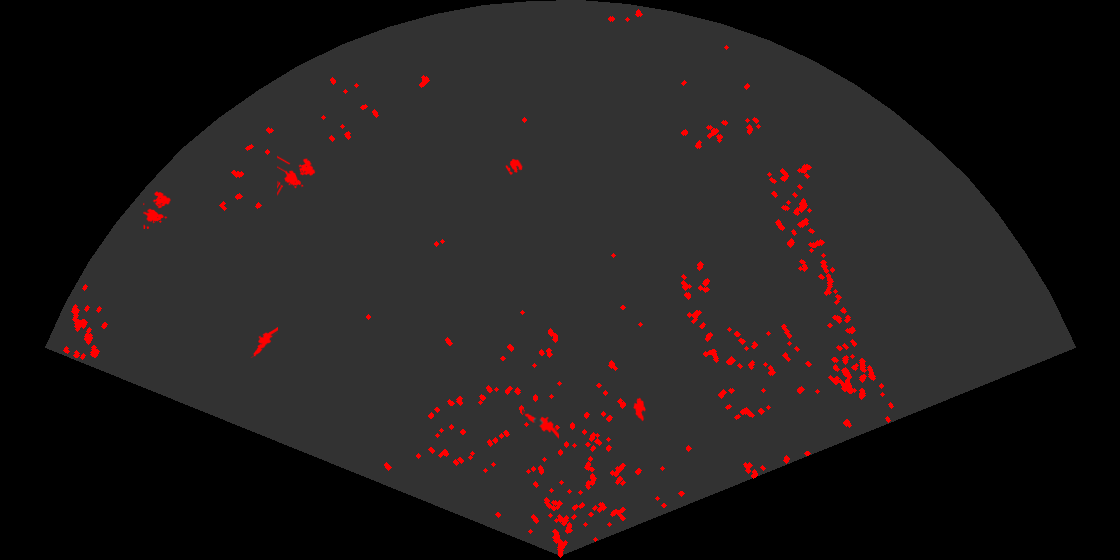AUV: (632, 396, 647, 423)
ball: (504, 157, 524, 176)
cage: (277, 154, 317, 197), (143, 190, 172, 229)
frogman: (522, 408, 559, 440), (249, 327, 278, 358)
